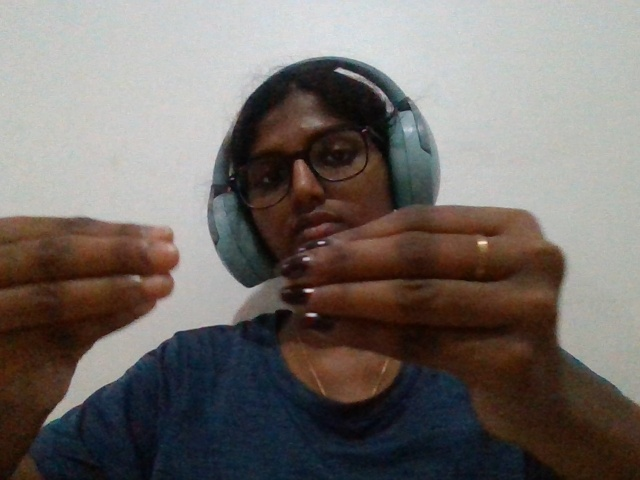More: (7, 193, 590, 476)
